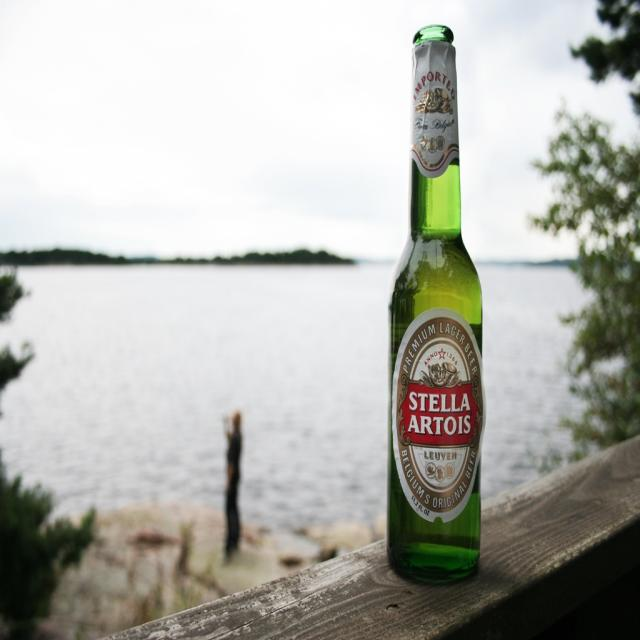stellaartois: (397, 319, 484, 514)
